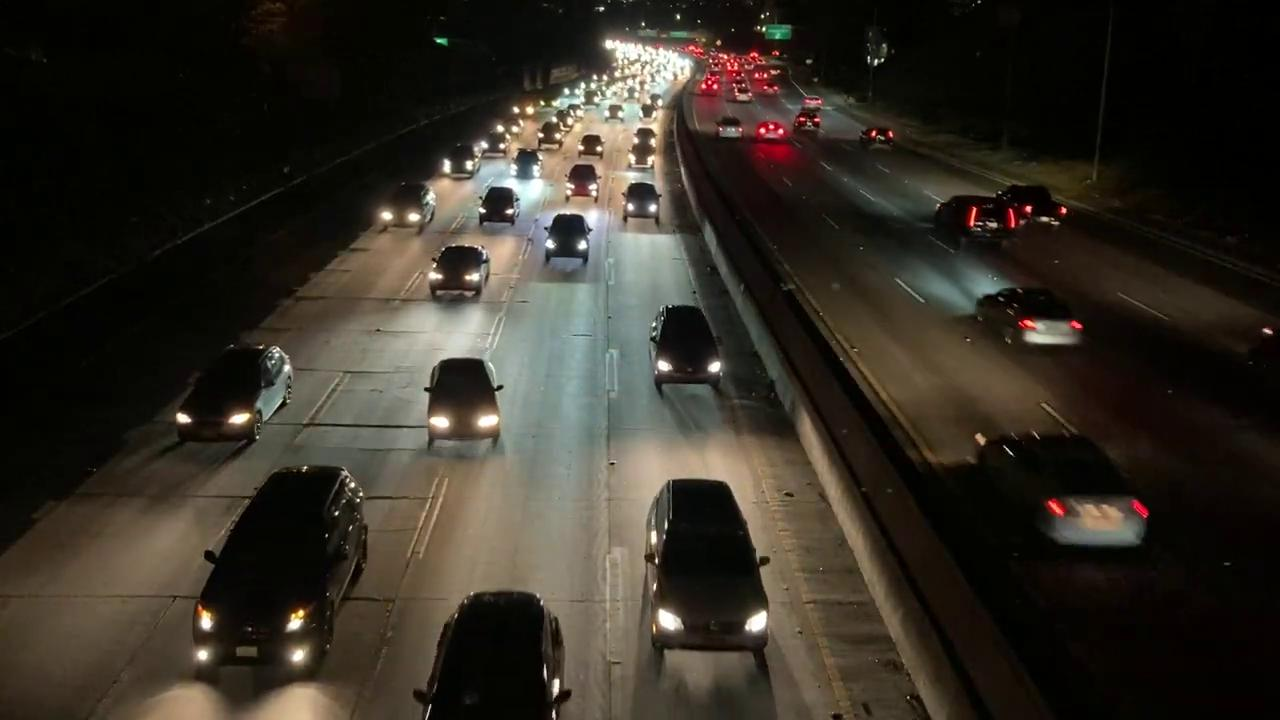car: (190, 460, 373, 672), (644, 474, 774, 666), (416, 590, 578, 718), (177, 343, 298, 444), (423, 358, 502, 446), (648, 302, 726, 391), (977, 286, 1084, 347), (934, 194, 1014, 247), (429, 244, 492, 300), (380, 183, 438, 232), (544, 213, 593, 263), (622, 180, 663, 224), (478, 187, 521, 224), (564, 163, 601, 202), (858, 127, 897, 149), (715, 115, 744, 141)
